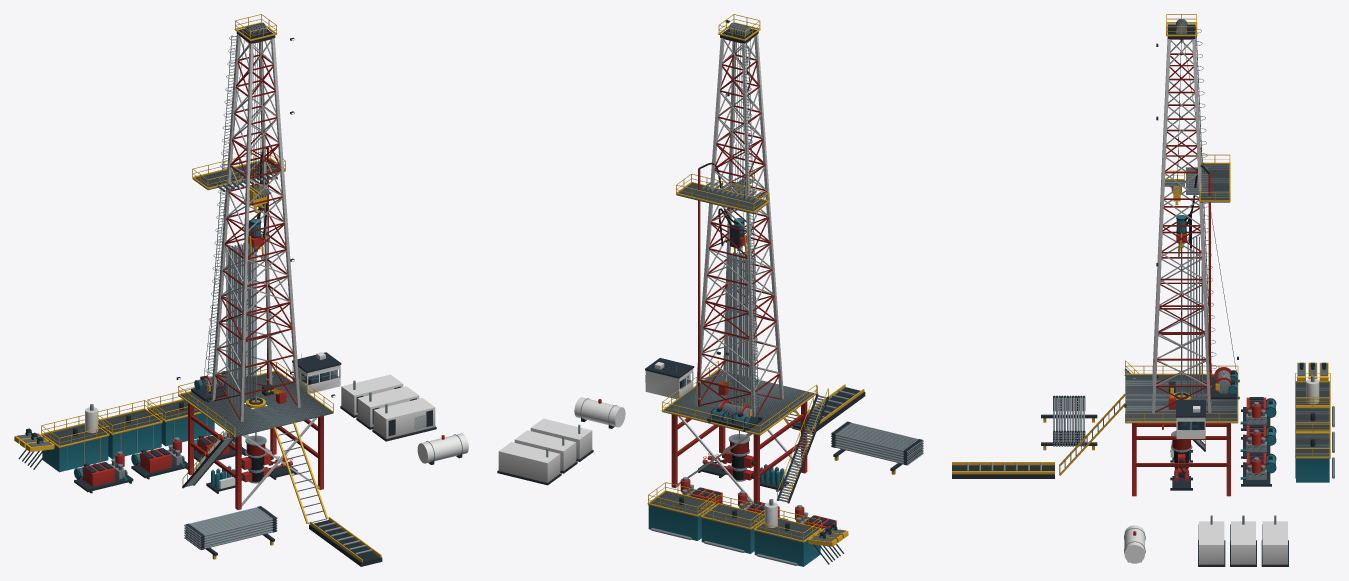
The model's file is land_1500_ac_double_lodH.glb.
3 renders of one model, left to right at view 1: azimuth 30°, elevation 25°; view 2: azimuth 150°, elevation 25°; view 3: azimuth 270°, elevation 25°, orthographic.
Parts seen in each view (by area): view 1: derrick_surface_white, derrick_surface_red, generators_surface_white, drill_floor_surface_deck, mud_tanks_surface_blue, setback_pipe_surface_steel, drill_floor_surface_steel, pipe_rack_surface_steel, substructure_surface_red, mud_tanks_surface_deck, mud_tanks_surface_steel, mud_tanks_surface_yellow (+13 smaller); view 2: derrick_surface_white, derrick_surface_red, generators_surface_white, mud_tanks_surface_blue, setback_pipe_surface_steel, drill_floor_surface_deck, drill_floor_surface_steel, pipe_rack_surface_steel, substructure_surface_red, mud_tanks_surface_deck, mud_tanks_surface_steel, mud_tanks_surface_yellow (+14 smaller); view 3: derrick_surface_white, generators_surface_white, drill_floor_surface_steel, derrick_surface_red, drill_floor_surface_deck, mud_tanks_surface_steel, mud_tanks_surface_deck, substructure_surface_red, setback_pipe_surface_steel, pipe_rack_surface_steel, racking_board_surface_steel, mud_tanks_surface_yellow (+13 smaller).
Boxes of the visible parts, left/top/right/bottom form: derrick_surface_white: left=211, top=34, right=300, bottom=421; derrick_surface_red: left=213, top=38, right=296, bottom=419; generators_surface_white: left=341, top=374, right=435, bottom=438; drill_floor_surface_deck: left=180, top=372, right=333, bottom=437; mud_tanks_surface_blue: left=42, top=410, right=214, bottom=472; setback_pipe_surface_steel: left=226, top=243, right=254, bottom=404; drill_floor_surface_steel: left=181, top=372, right=332, bottom=435; pipe_rack_surface_steel: left=184, top=506, right=277, bottom=549; substructure_surface_red: left=188, top=403, right=323, bottom=509; mud_tanks_surface_deck: left=44, top=400, right=201, bottom=448; mud_tanks_surface_steel: left=44, top=400, right=207, bottom=470; mud_tanks_surface_yellow: left=41, top=389, right=201, bottom=447; derrick_surface_white: left=694, top=34, right=783, bottom=416; derrick_surface_red: left=700, top=36, right=781, bottom=416; generators_surface_white: left=498, top=418, right=592, bottom=482; mud_tanks_surface_blue: left=648, top=505, right=820, bottom=566; setback_pipe_surface_steel: left=727, top=251, right=755, bottom=408; drill_floor_surface_deck: left=663, top=370, right=813, bottom=435; drill_floor_surface_steel: left=664, top=370, right=814, bottom=433; pipe_rack_surface_steel: left=831, top=421, right=923, bottom=465; substructure_surface_red: left=671, top=401, right=807, bottom=502; mud_tanks_surface_deck: left=648, top=492, right=818, bottom=543; mud_tanks_surface_steel: left=650, top=492, right=818, bottom=565; mud_tanks_surface_yellow: left=647, top=482, right=821, bottom=542; derrick_surface_white: left=1152, top=38, right=1211, bottom=412; generators_surface_white: left=1199, top=521, right=1287, bottom=564; drill_floor_surface_steel: left=1125, top=375, right=1237, bottom=421; derrick_surface_red: left=1154, top=39, right=1208, bottom=412; drill_floor_surface_deck: left=1125, top=375, right=1237, bottom=423; mud_tanks_surface_steel: left=1295, top=382, right=1334, bottom=478; mud_tanks_surface_deck: left=1295, top=383, right=1330, bottom=458; substructure_surface_red: left=1132, top=423, right=1230, bottom=496; setback_pipe_surface_steel: left=1187, top=236, right=1202, bottom=398; pipe_rack_surface_steel: left=1053, top=397, right=1084, bottom=446; racking_board_surface_steel: left=1186, top=164, right=1229, bottom=200; mud_tanks_surface_yellow: left=1295, top=373, right=1330, bottom=458.
Size of the model in its own units: 43.62 by 53.71 by 40.86.
